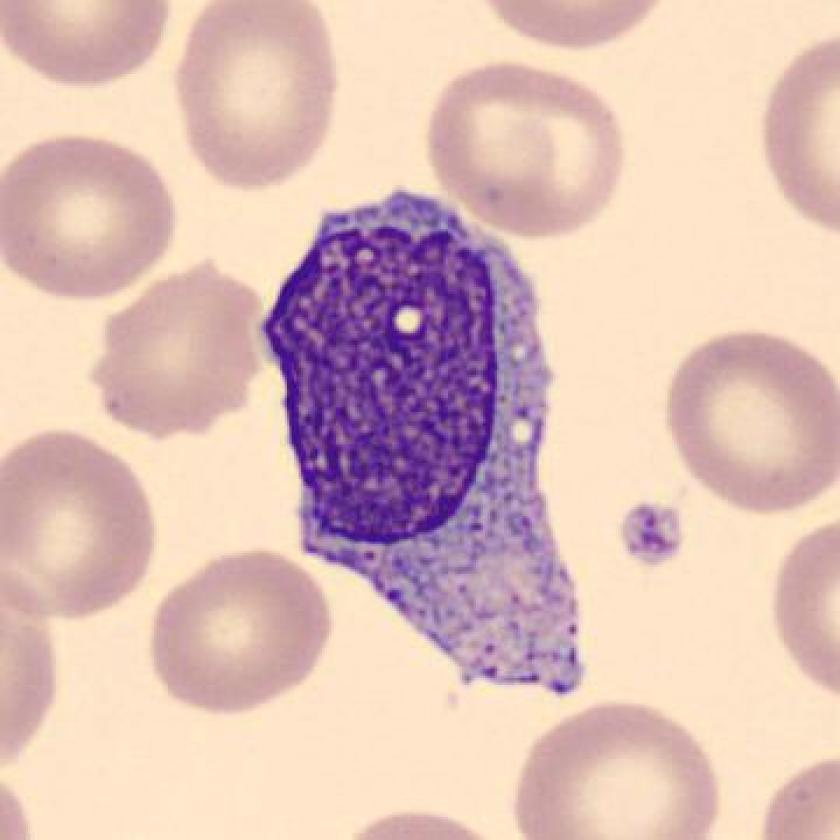monocyte: (246, 163, 615, 718)
